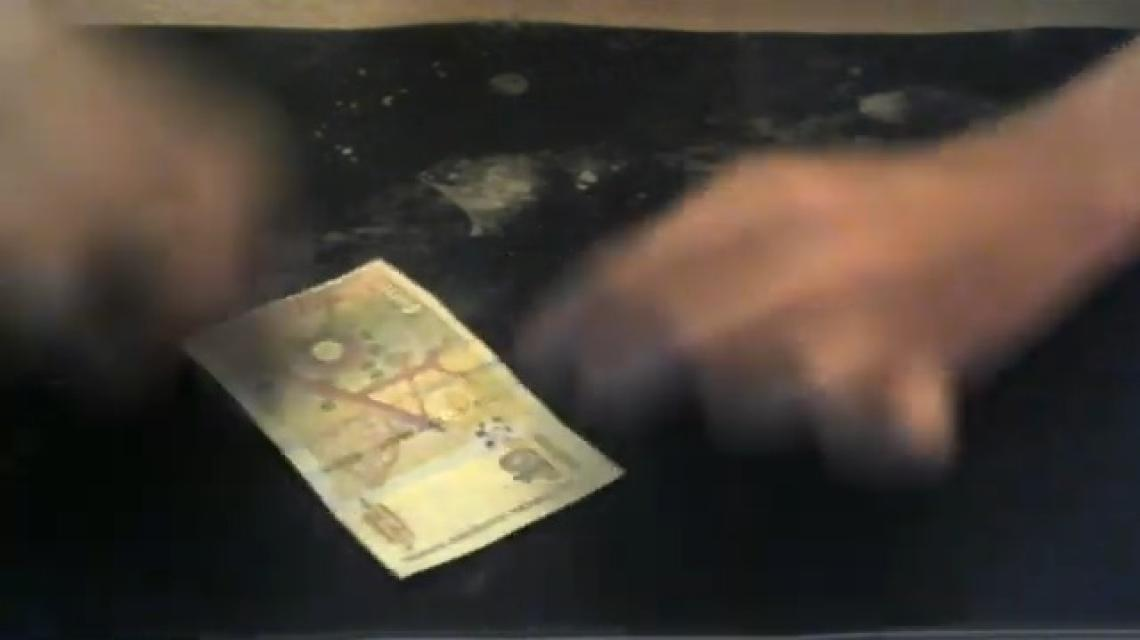10leva: (178, 260, 623, 581)
